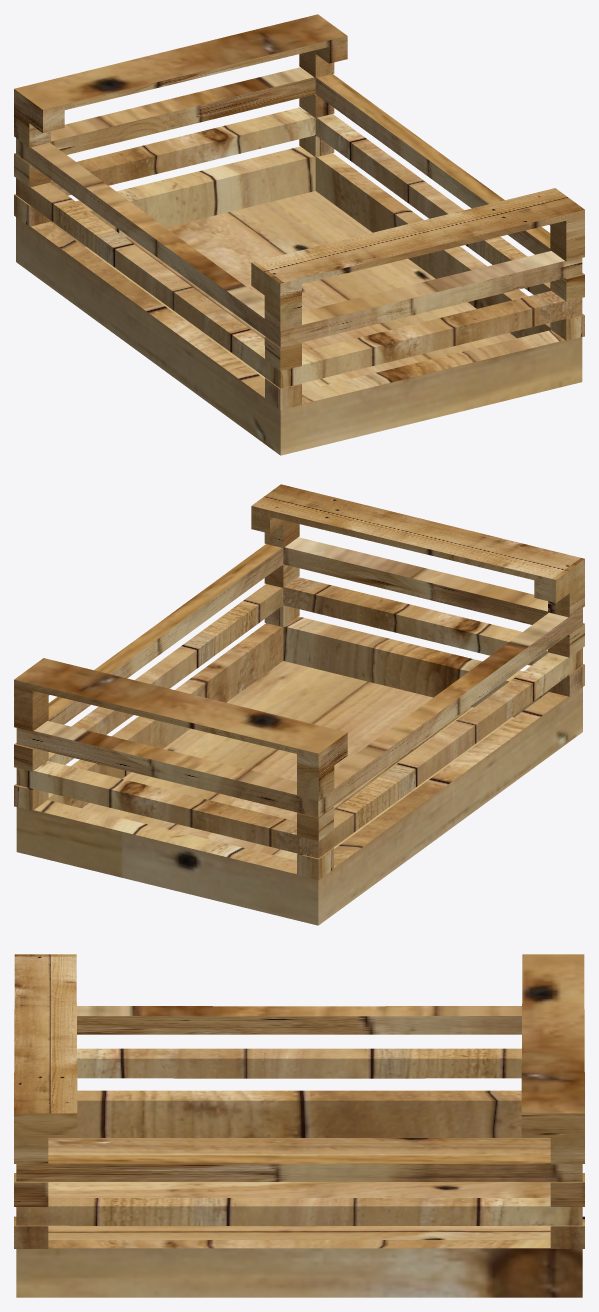
Rendered from Crate.fbx.
The picture shows the model from 3 angles, top to bottom: view 1: azimuth 30°, elevation 25°; view 2: azimuth 150°, elevation 25°; view 3: azimuth 270°, elevation 25°; orthographic projection. The views are drawn at different scales.
Parts seen in each view (by area): view 1: pCube2; view 2: pCube2; view 3: pCube2.
Boxes of the visible parts, x1,y1,x2,y2 form: pCube2: (14,14,584,455); pCube2: (14,484,584,925); pCube2: (14,954,584,1297).
Bounding box in the file's own units: 3.69 × 2.01 × 5.61.
1 material, 1 textured.
